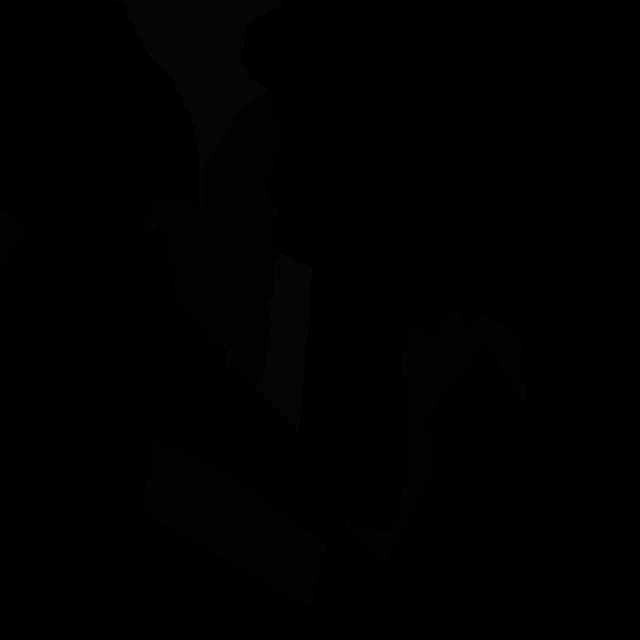cardboard: (340, 306, 528, 561), (139, 438, 326, 607), (204, 92, 281, 387), (138, 195, 232, 352), (0, 206, 31, 268)
rigid_plastic: (0, 198, 98, 327)
soft_plastic: (109, 0, 282, 209), (252, 253, 312, 433)
